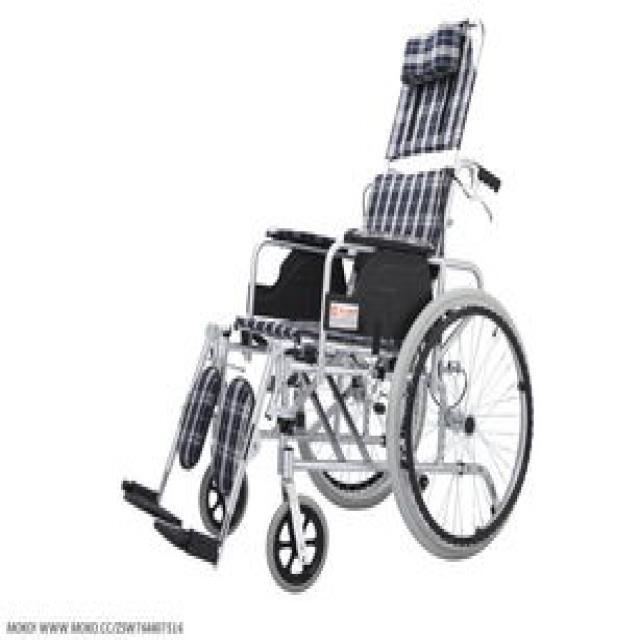wheelchair: (130, 0, 548, 601)
